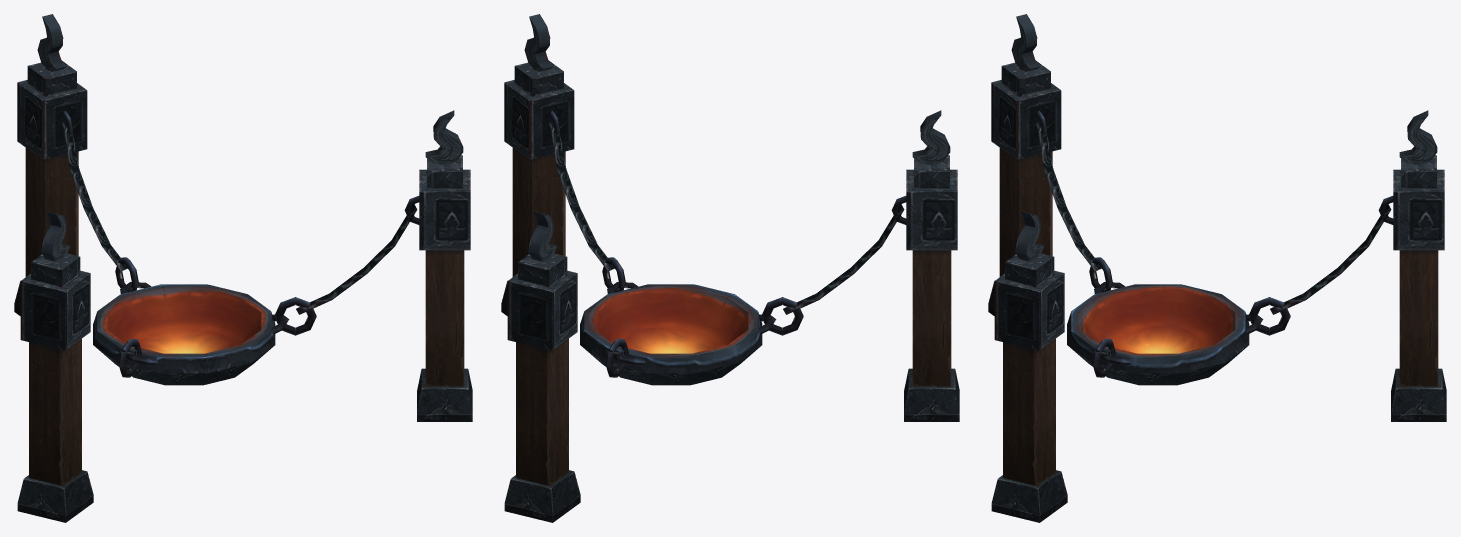
The model's file is s7_gouhuopen.FBX.
3 views of the same model, side by side, from view 1: azimuth 30°, elevation 25°; view 2: azimuth 150°, elevation 25°; view 3: azimuth 270°, elevation 25° (orthographic).
Parts seen in each view (by area): view 1: s7_gouhuopen; view 2: s7_gouhuopen; view 3: s7_gouhuopen.
Part boxes in pixels (<box>): s7_gouhuopen: <box>14,14,472,522</box>; s7_gouhuopen: <box>501,14,959,522</box>; s7_gouhuopen: <box>988,14,1446,522</box>.
Bounding box in the file's own units: 0.8273 × 0.5146 × 0.7191.
